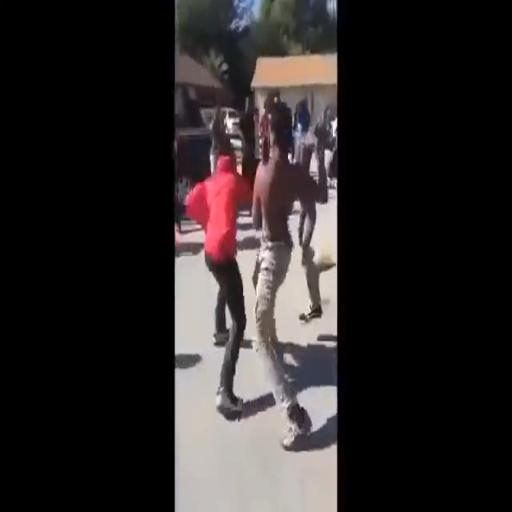violencia: (177, 98, 332, 460)
